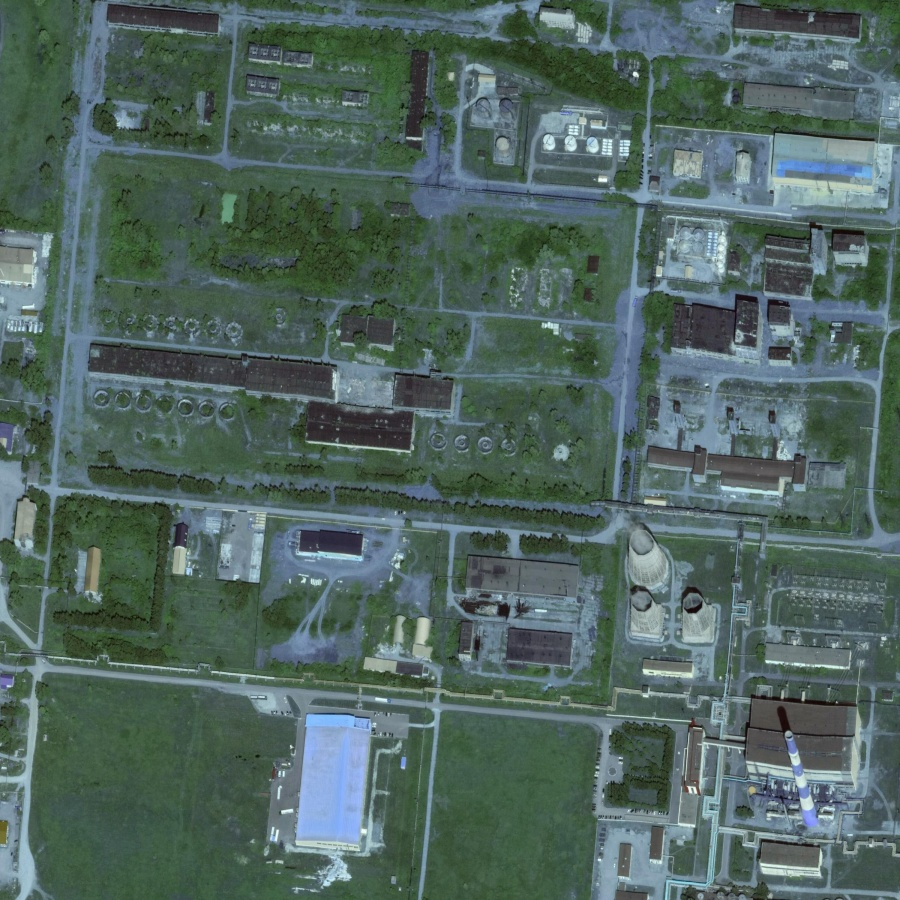PowerPlant: (599, 519, 892, 878)
